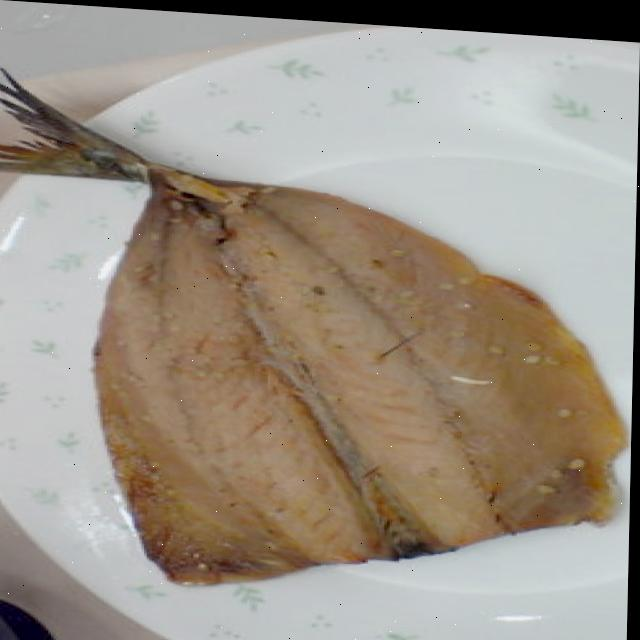熟制海鲜: (0, 71, 639, 622)
